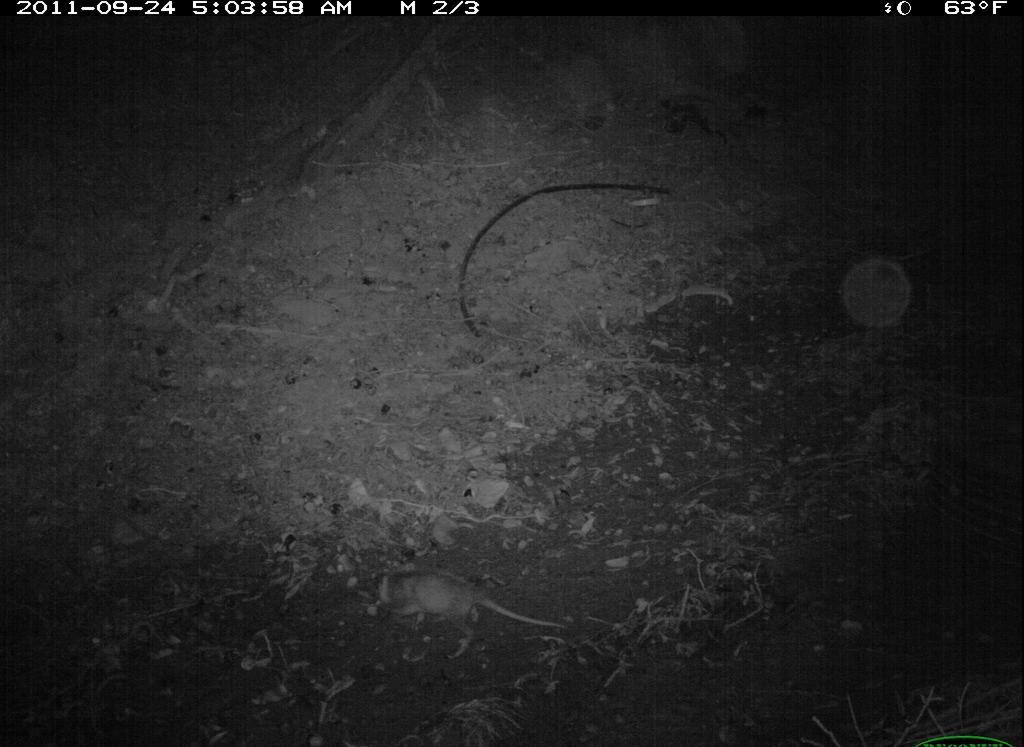opossum: (370, 560, 577, 664)
